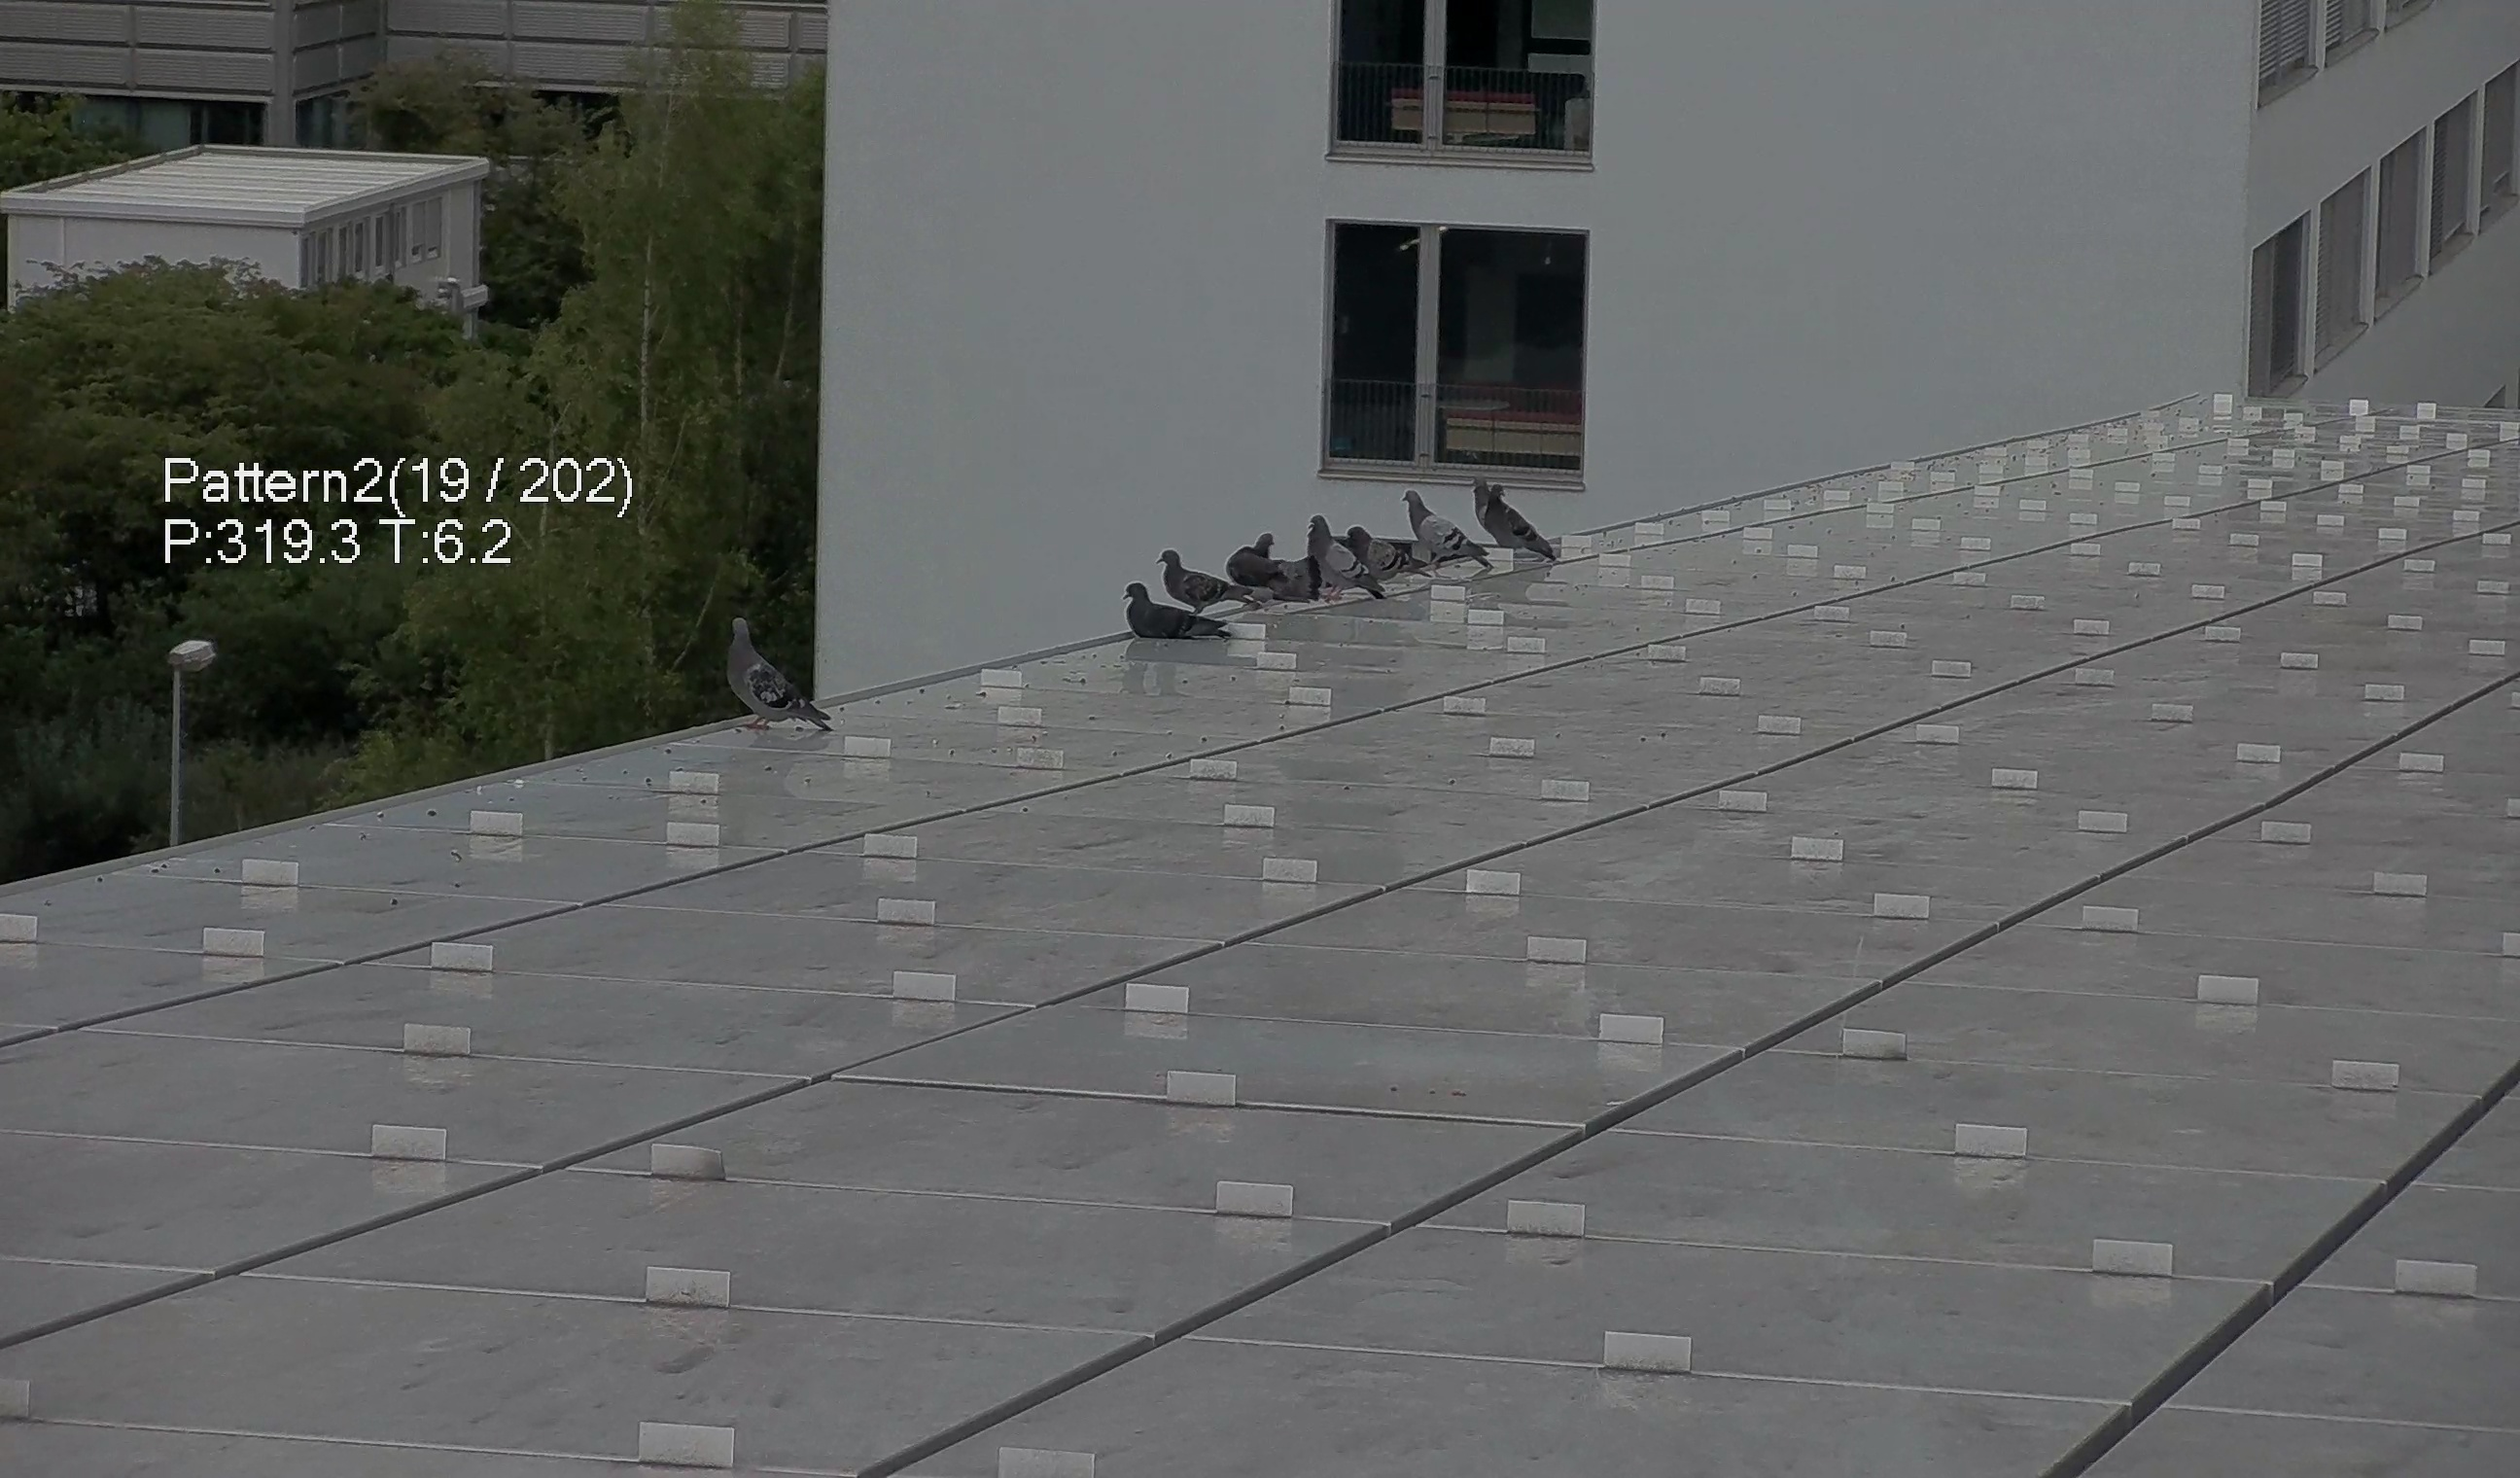Pigeon: (696, 607, 830, 743), (1150, 542, 1275, 616), (1117, 582, 1231, 653), (1227, 533, 1321, 611), (1402, 484, 1479, 574), (1303, 516, 1372, 609), (1489, 479, 1556, 570), (1347, 519, 1421, 579), (1470, 477, 1497, 524)
